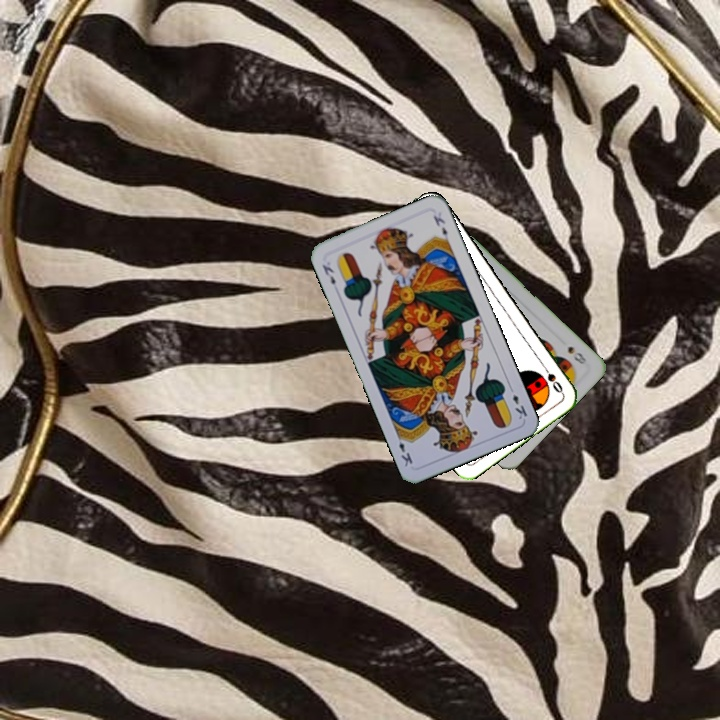EK: (505, 382, 530, 422), (318, 260, 338, 287)
S8: (564, 342, 591, 367)
SO: (538, 360, 565, 396)
